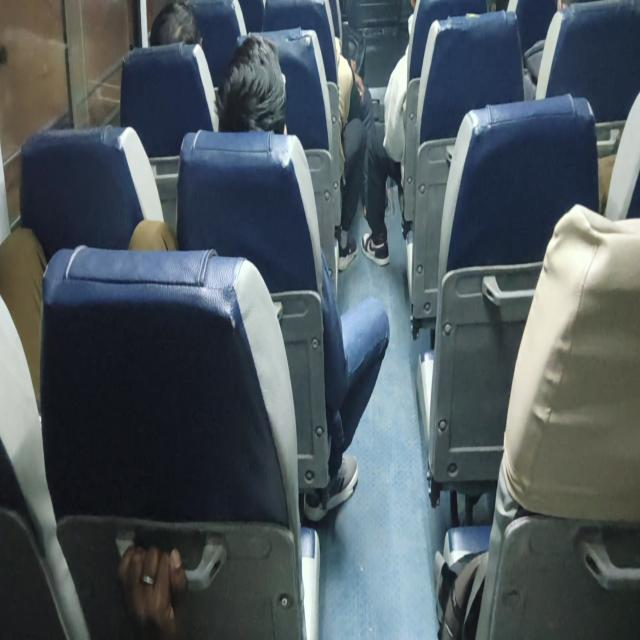person: (215, 45, 289, 146), (147, 0, 198, 53)
